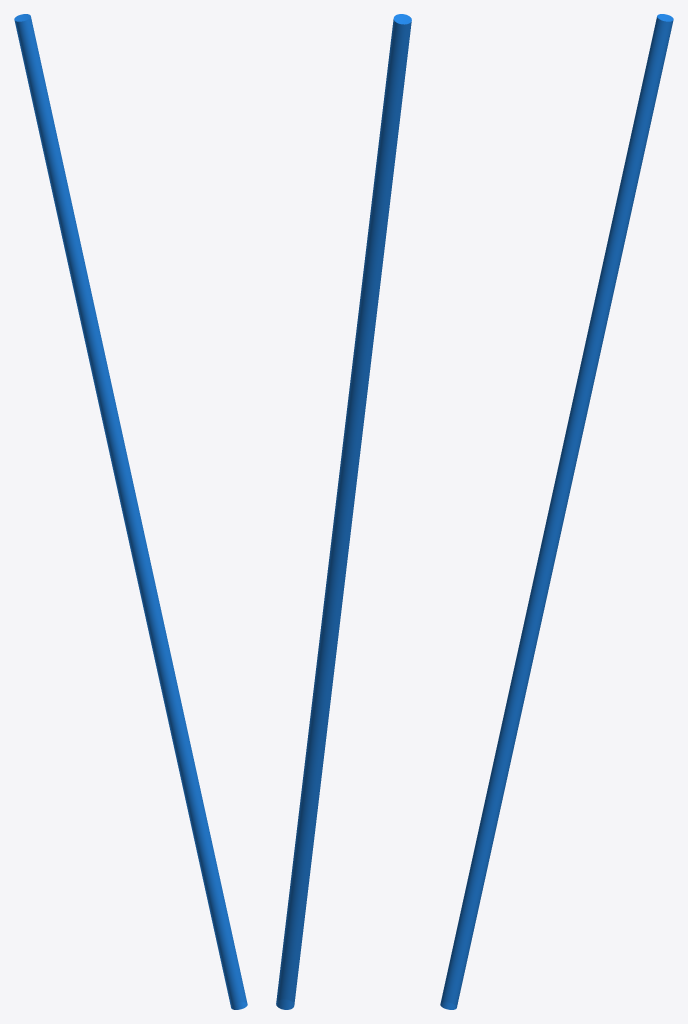
File: Event_421278790_MET.fbx
3 views of the same model, side by side, from view 1: azimuth 90°, elevation 25°; view 2: azimuth 210°, elevation 25°; view 3: azimuth 270°, elevation 25° (orthographic). The views are drawn at different scales.
Parts seen in each view (by area): view 1: Model; view 2: Model; view 3: Model.
Part boxes in pixels (bbox=[...]): Model: bbox=[14, 14, 247, 1009]; Model: bbox=[276, 14, 411, 1009]; Model: bbox=[440, 14, 673, 1009].
Bounding box in the file's own units: 0.04 × 2.58 × 0.551.
